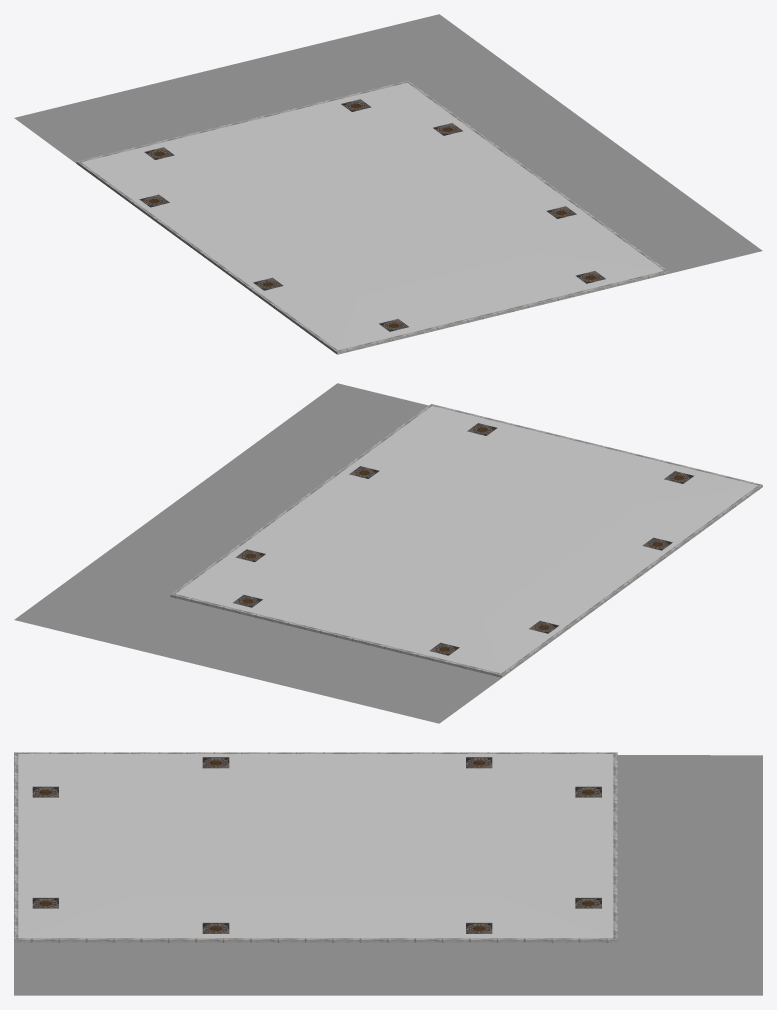
File: street_section1_2.FBX
3 views of the same model, one above another, from view 1: azimuth 30°, elevation 25°; view 2: azimuth 150°, elevation 25°; view 3: azimuth 270°, elevation 25° (orthographic). The views are drawn at different scales.
Parts seen in each view (by area): view 1: street_section1_2, street_section1_2_center, grate012; view 2: street_section1_2, street_section1_2_center, grate012; view 3: street_section1_2, street_section1_2_center, grate012.
Boxes of the visible parts, x1,y1,x2,y2 form: street_section1_2: (14, 14, 762, 354); street_section1_2_center: (204, 139, 536, 295); grate012: (139, 99, 605, 331); street_section1_2: (14, 383, 762, 723); street_section1_2_center: (304, 461, 636, 618); grate012: (233, 423, 693, 655); street_section1_2: (14, 752, 762, 995); street_section1_2_center: (135, 794, 494, 894); grate012: (32, 757, 601, 933).
Size of the model in its own units: 2154 by 30.87 by 2836.
